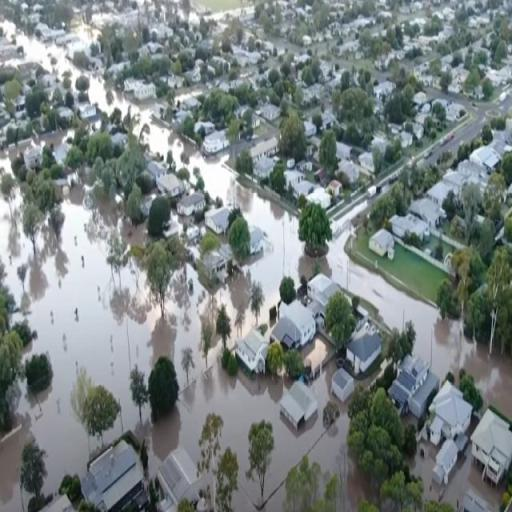flood: (0, 104, 512, 512), (414, 442, 501, 512), (0, 24, 73, 72), (89, 73, 130, 112)
house: (86, 440, 144, 510), (470, 402, 512, 492), (387, 354, 438, 423), (159, 443, 202, 510), (425, 382, 472, 443), (270, 296, 316, 354), (279, 376, 322, 434), (236, 328, 270, 378), (348, 331, 382, 372), (306, 272, 348, 302), (471, 141, 506, 177), (178, 188, 207, 222), (31, 493, 78, 512), (206, 204, 234, 234), (332, 368, 354, 400), (370, 229, 396, 256), (201, 129, 229, 153), (427, 181, 452, 206), (158, 173, 182, 196), (135, 78, 154, 102), (80, 103, 98, 119)
